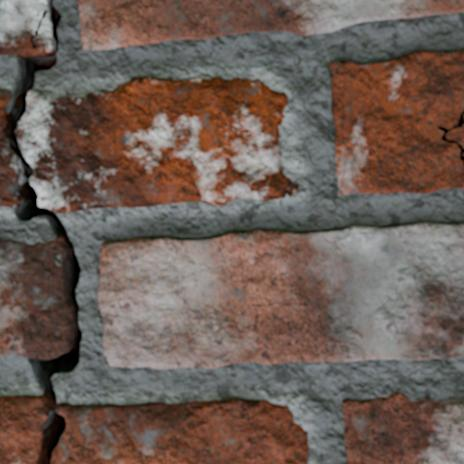brick: (98, 223, 463, 368), (330, 51, 463, 194), (79, 0, 463, 49), (343, 393, 463, 463), (0, 240, 67, 357), (0, 0, 53, 54), (447, 126, 463, 145)
broken_brick: (17, 75, 299, 213), (52, 398, 309, 463), (0, 394, 47, 463), (0, 88, 19, 207)
crack: (2, 0, 83, 463), (436, 110, 463, 166)
